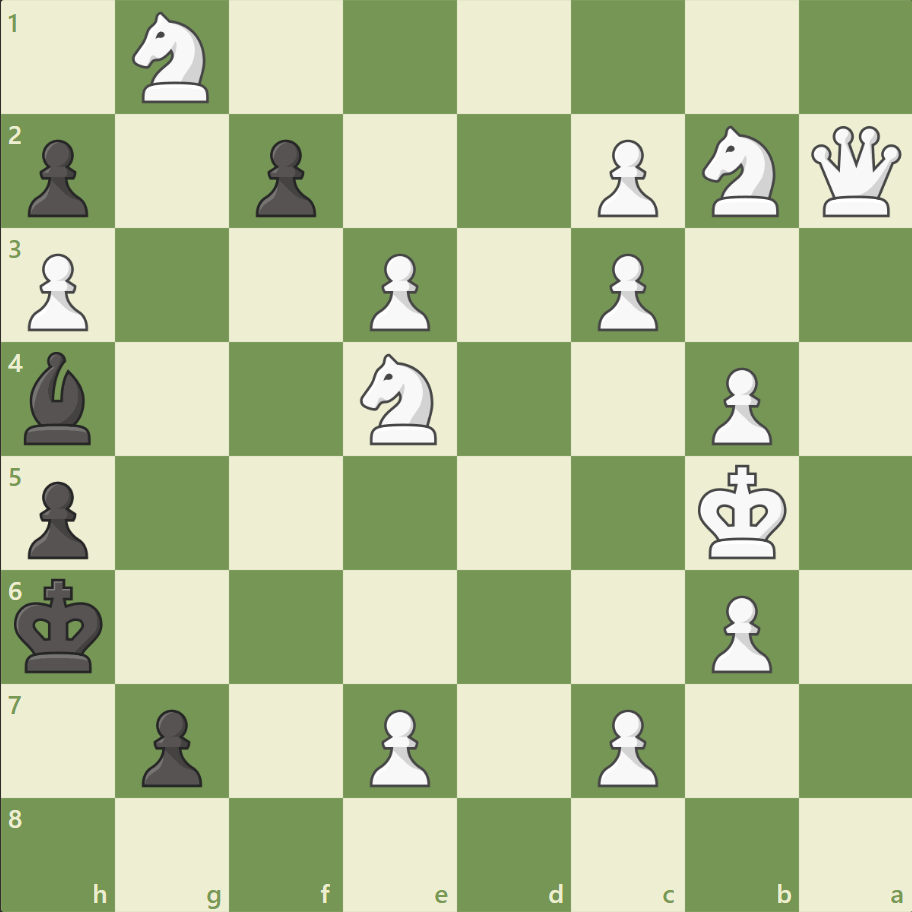K: (692, 458, 792, 566)
N: (124, 7, 222, 110), (351, 348, 449, 450), (692, 121, 789, 223)
P: (701, 586, 776, 677), (701, 359, 776, 450), (20, 246, 95, 337), (588, 700, 662, 791), (361, 700, 435, 791), (588, 246, 662, 337), (361, 246, 435, 337), (588, 132, 662, 223)
Q: (805, 122, 904, 222)
b: (17, 347, 101, 449)
k: (11, 571, 111, 679)
p: (133, 700, 208, 791), (20, 473, 95, 564), (247, 132, 322, 223), (20, 132, 95, 223)
